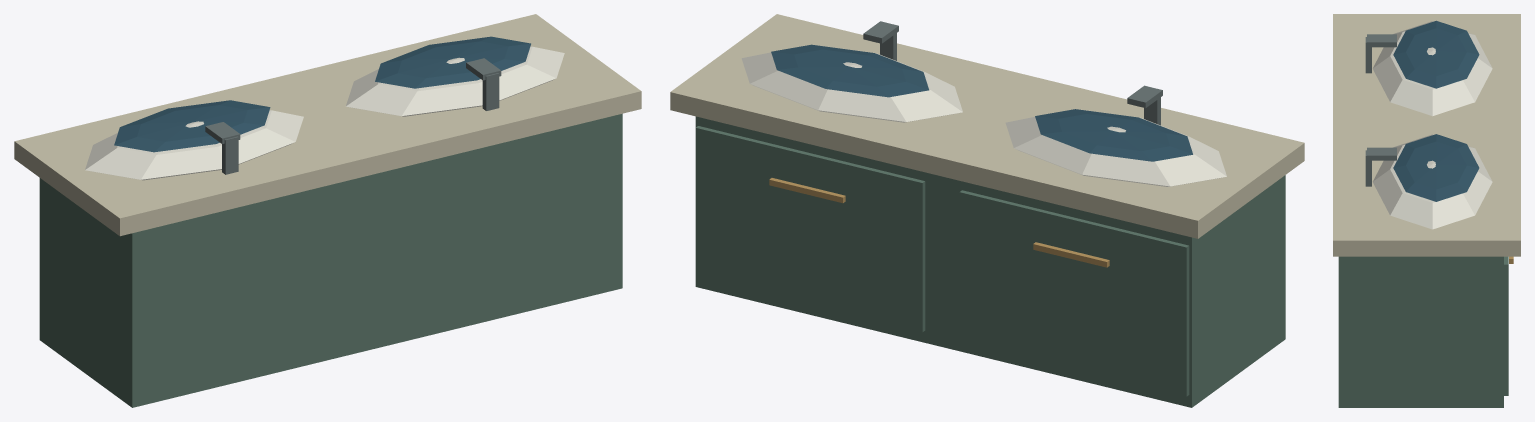
File: LP_Toilet_SinkCounter.fbx
3 views of the same model, side by side, from view 1: azimuth 30°, elevation 25°; view 2: azimuth 150°, elevation 25°; view 3: azimuth 270°, elevation 25° (orthographic). The views are drawn at different scales.
Parts seen in each view (by area): view 1: SageUpholstery, M_Central_Limestone, M_Museum_Porcelain, M_Museum_DeepBlue, M_Museum_BrushedMetal; view 2: SageUpholstery, M_Central_Limestone, M_Museum_Porcelain, M_Museum_DeepBlue, M_Museum_BrushedMetal, AgedBrass; view 3: M_Central_Limestone, SageUpholstery, M_Museum_DeepBlue, M_Museum_Porcelain, M_Museum_BrushedMetal.
Part boxes in pixels (x1,y1,x2,y2): SageUpholstery: [39, 113, 622, 407]; M_Central_Limestone: [14, 14, 641, 236]; M_Museum_Porcelain: [85, 46, 564, 180]; M_Museum_DeepBlue: [114, 36, 530, 152]; M_Museum_BrushedMetal: [205, 58, 501, 174]; SageUpholstery: [695, 116, 1285, 407]; M_Central_Limestone: [670, 14, 1304, 238]; M_Museum_Porcelain: [741, 45, 1226, 186]; M_Museum_DeepBlue: [771, 44, 1192, 161]; M_Museum_BrushedMetal: [863, 21, 1162, 125]; AgedBrass: [769, 178, 1109, 267]; M_Central_Limestone: [1333, 14, 1520, 256]; SageUpholstery: [1338, 256, 1508, 407]; M_Museum_DeepBlue: [1393, 20, 1479, 201]; M_Museum_Porcelain: [1372, 21, 1492, 229]; M_Museum_BrushedMetal: [1365, 34, 1396, 186].
Size of the model in its own units: 200 by 85 by 70.
